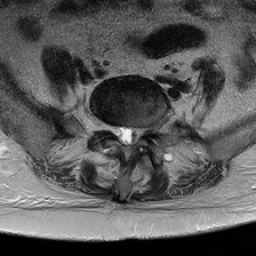CCS_normal: (124, 118, 131, 150)
LFS_stenosis: (141, 120, 149, 139)
LLS_normal: (131, 121, 140, 147)
RFS_normal: (107, 117, 117, 139)
RLS_normal: (117, 118, 124, 146)
